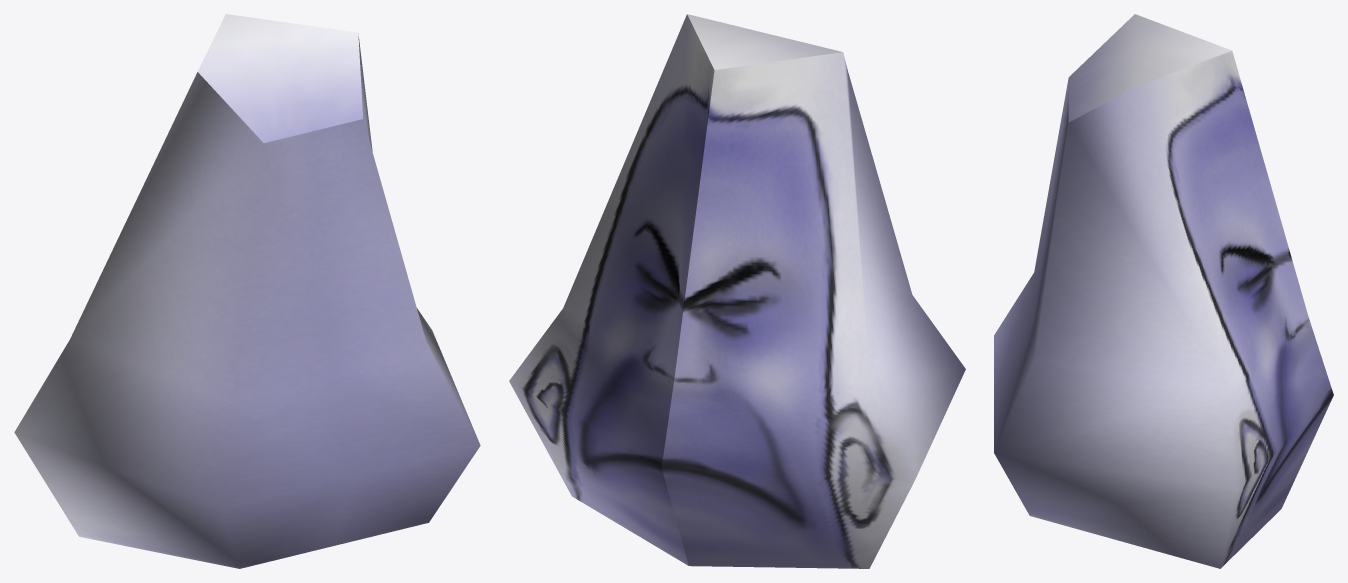
File: bigwig.glb
3 renders of one model, left to right at view 1: azimuth 30°, elevation 25°; view 2: azimuth 150°, elevation 25°; view 3: azimuth 270°, elevation 25°, orthographic. The views are drawn at different scales.
Visible parts, largest first — view 1: bigwig; view 2: bigwig; view 3: bigwig.
Part boxes in pixels (x1=…): bigwig: x1=14, y1=14, x2=480, y2=568; bigwig: x1=509, y1=14, x2=965, y2=568; bigwig: x1=994, y1=14, x2=1333, y2=568.
Bounding box in the file's own units: 1.46 × 1.64 × 1.1.
Materials: 1 (1 with a texture image).
